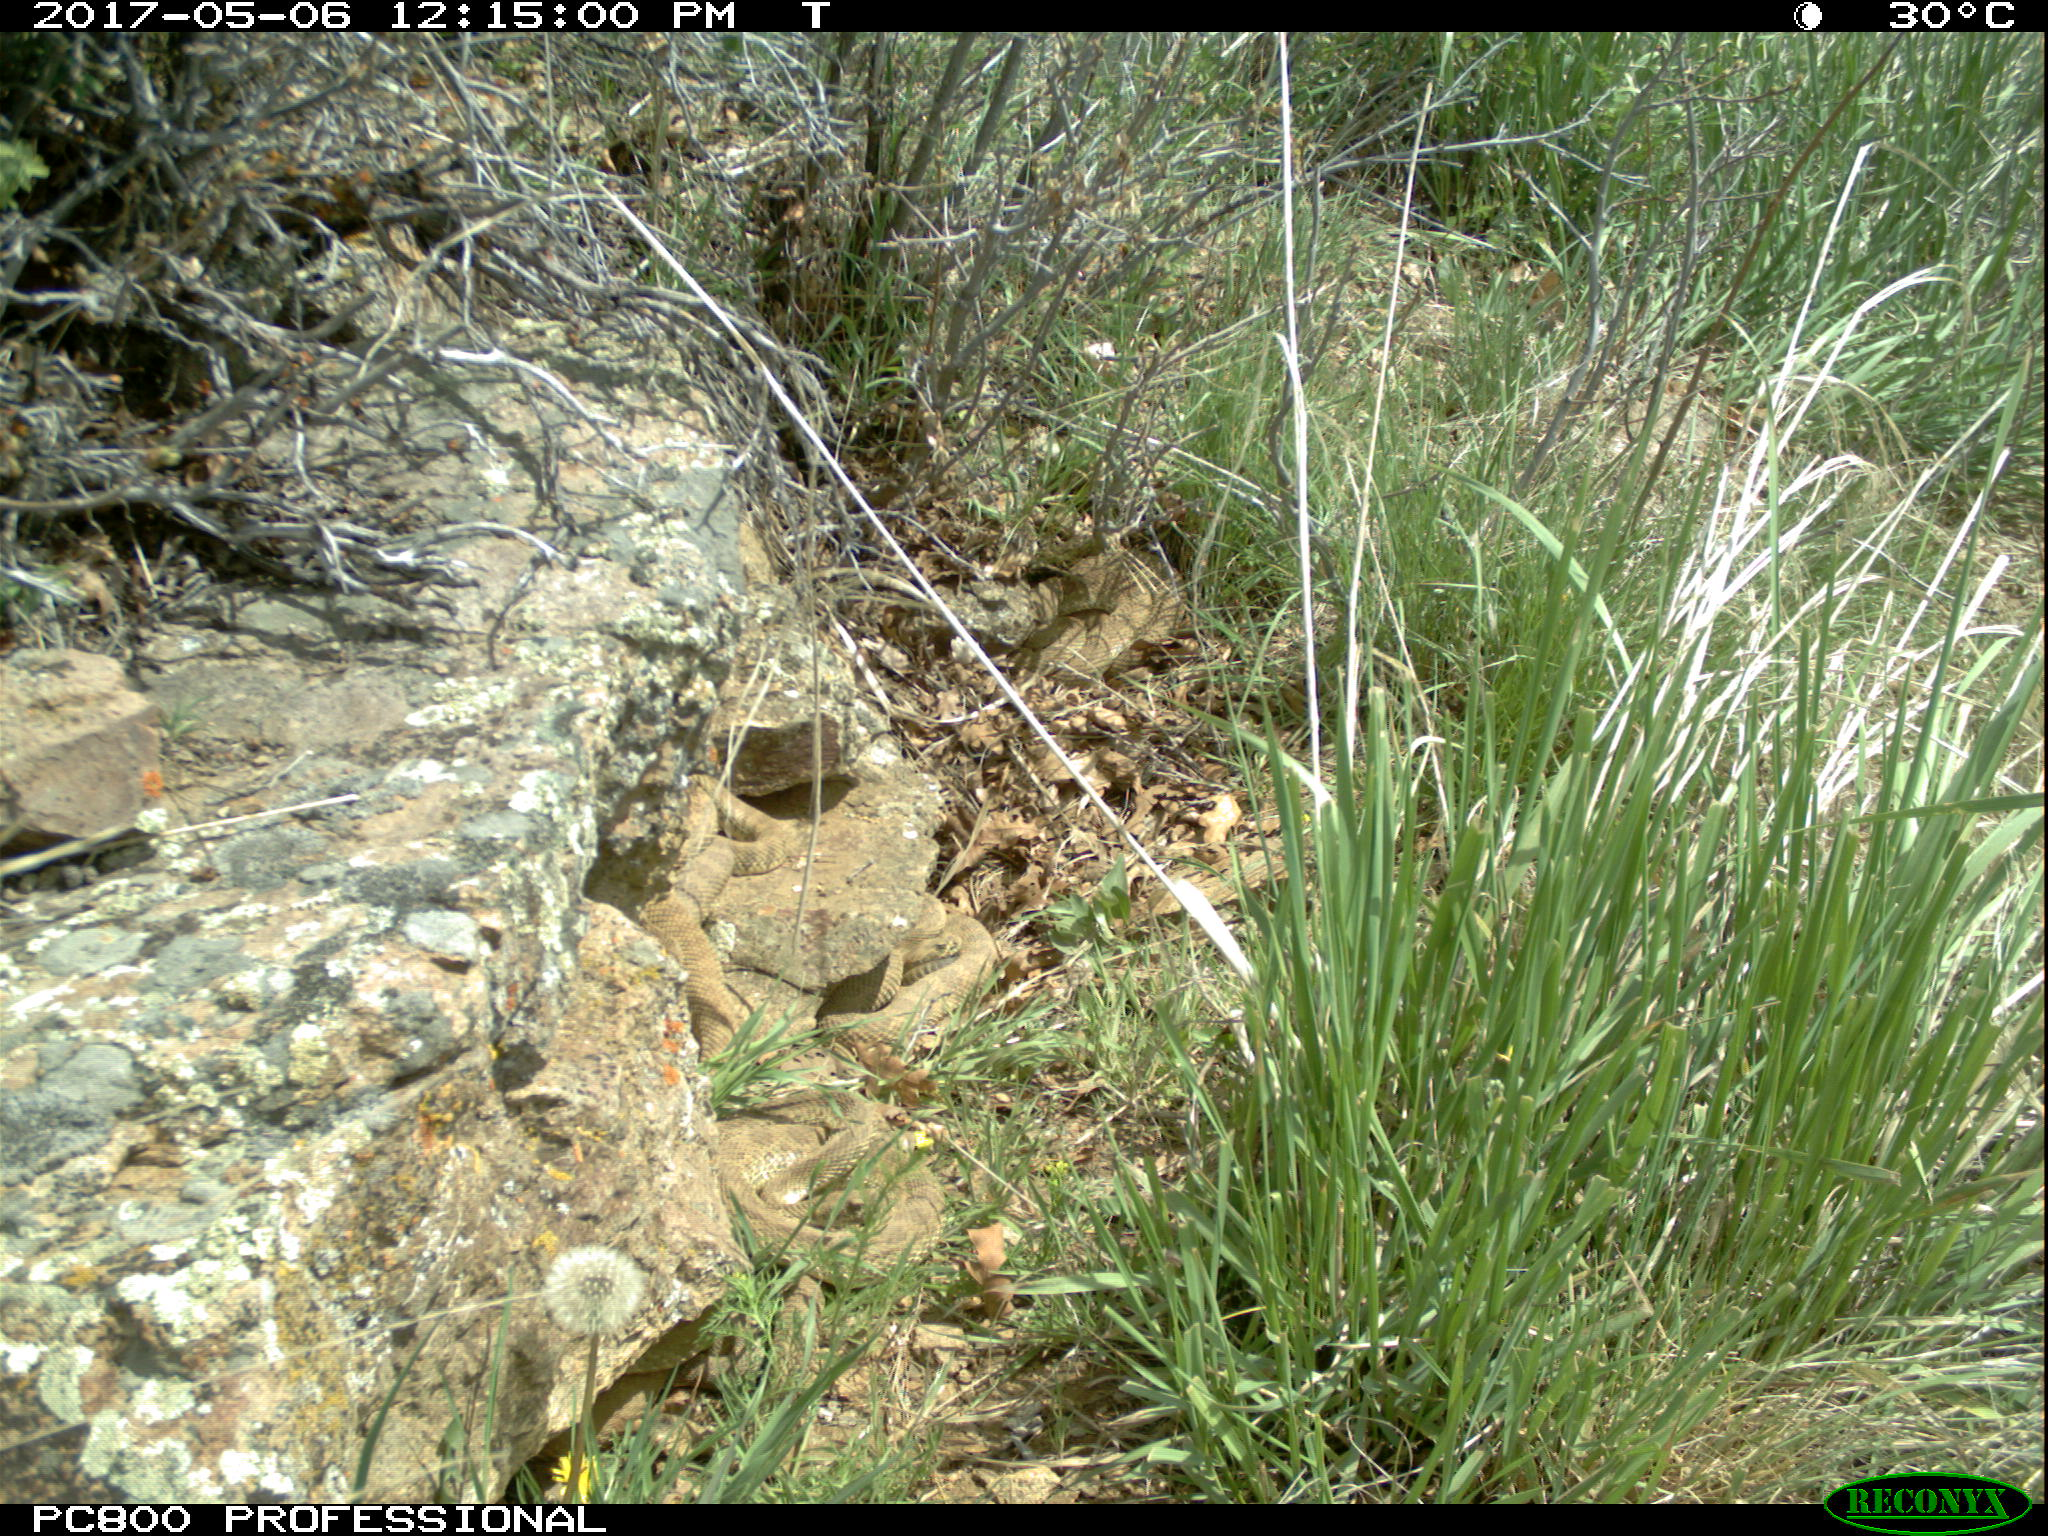snake: (648, 770, 797, 1065), (722, 1086, 943, 1275), (824, 908, 1013, 1042), (1042, 558, 1188, 682)
